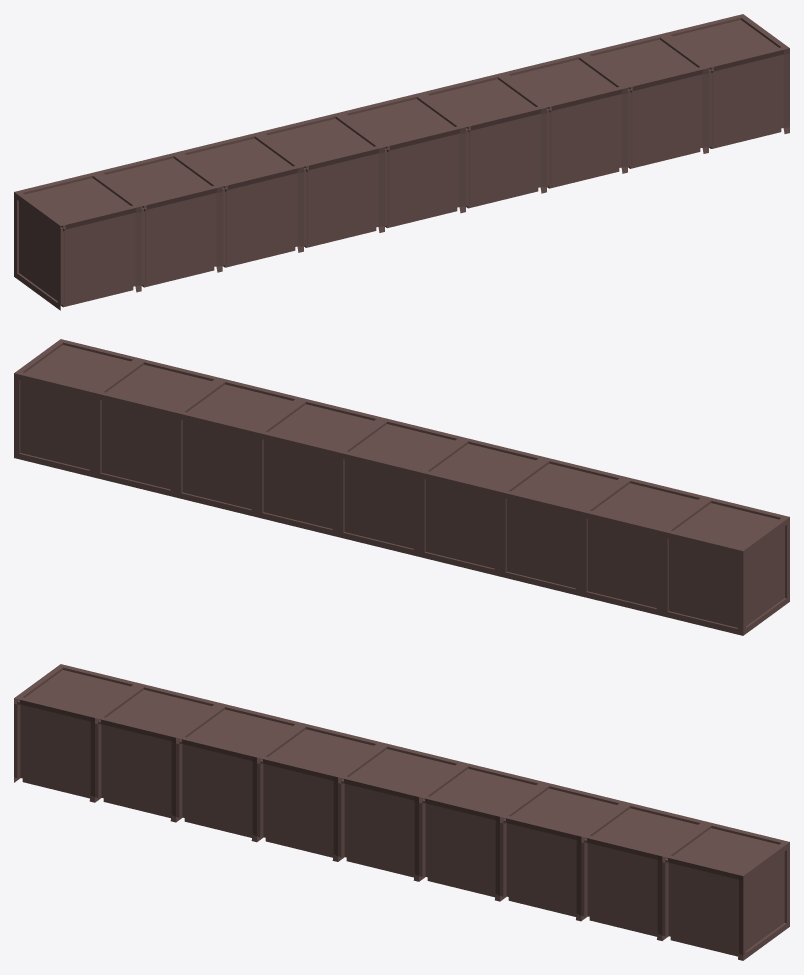
Rendered from Grates_North.fbx.
The picture shows the model from 3 angles, top to bottom: view 1: azimuth 30°, elevation 25°; view 2: azimuth 150°, elevation 25°; view 3: azimuth 330°, elevation 25°; orthographic projection.
Parts seen in each view (by area): view 1: Platform.004; view 2: Platform.004; view 3: Platform.004.
Part boxes in pixels (x1,y1,x2,y2): Platform.004: (14,14,789,310); Platform.004: (14,339,789,635); Platform.004: (14,664,789,960).
Bounding box in the file's own units: 2700 × 300 × 300.
